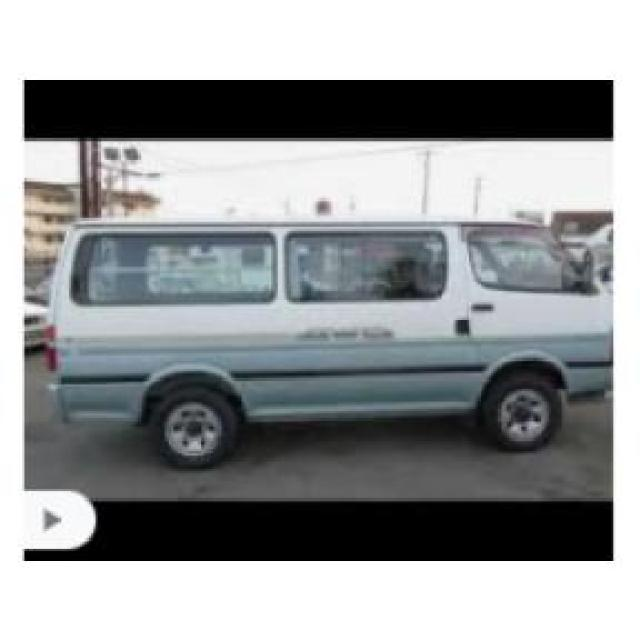Van: (46, 216, 606, 471)
